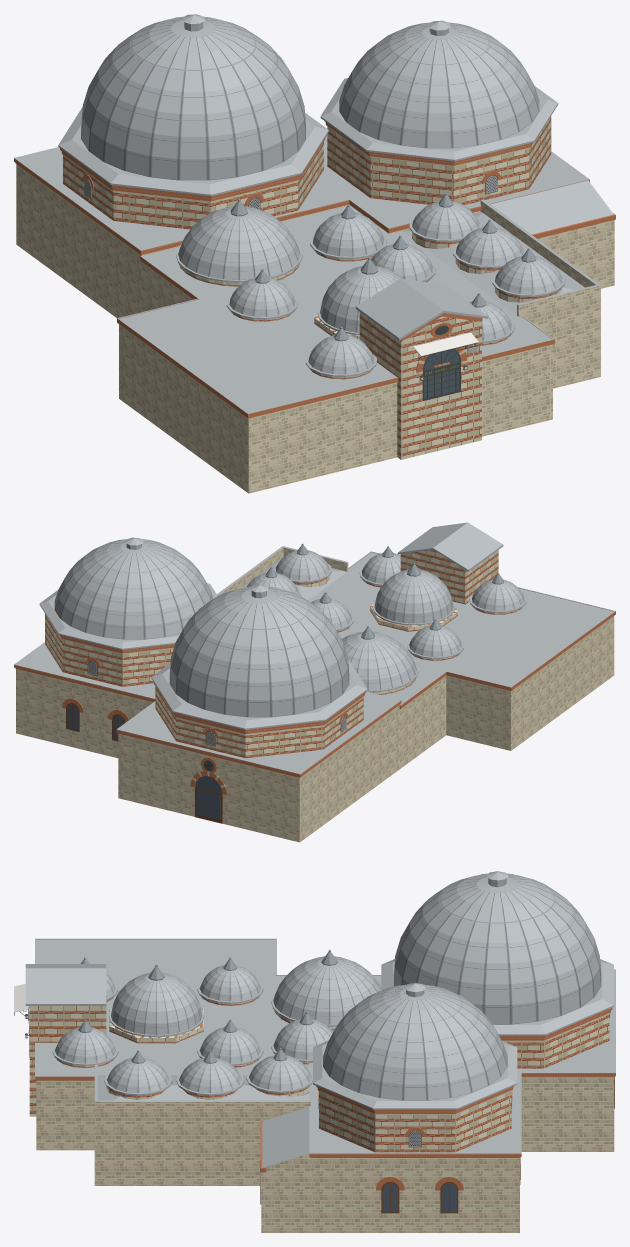
Rendered from orhan-bey-hamami_v08.glb.
3 renders of one model, top to bottom at view 1: azimuth 30°, elevation 25°; view 2: azimuth 150°, elevation 25°; view 3: azimuth 270°, elevation 25°, orthographic. The views are drawn at different scales.
Visible parts, largest first — view 1: Hamam_Sicaklik, Hamam_Sogukluk_Erkek, Hamam_Sogukluk_Kadin, Hamam_Giris, Hamam_Giris_Kadin; view 2: Hamam_Sogukluk_Erkek, Hamam_Sicaklik, Hamam_Sogukluk_Kadin, Hamam_Giris; view 3: Hamam_Sicaklik, Hamam_Sogukluk_Kadin, Hamam_Sogukluk_Erkek, Hamam_Giris, Hamam_Giris_Kadin.
Part boxes in pixels (<box>): Hamam_Sicaklik: <box>117,193,600,493</box>; Hamam_Sogukluk_Erkek: <box>14,14,366,318</box>; Hamam_Sogukluk_Kadin: <box>320,20,589,233</box>; Hamam_Giris: <box>355,278,488,459</box>; Hamam_Giris_Kadin: <box>490,180,615,288</box>; Hamam_Sogukluk_Erkek: <box>116,584,401,842</box>; Hamam_Sicaklik: <box>217,543,615,768</box>; Hamam_Sogukluk_Kadin: <box>14,537,217,758</box>; Hamam_Giris: <box>397,522,503,604</box>; Hamam_Sicaklik: <box>35,938,381,1185</box>; Hamam_Sogukluk_Kadin: <box>309,983,521,1232</box>; Hamam_Sogukluk_Erkek: <box>381,871,615,1151</box>; Hamam_Giris: <box>14,964,106,1116</box>; Hamam_Giris_Kadin: <box>260,1107,310,1232</box>.
Bounding box in the file's own units: 31.62 × 15.2 × 36.23.
15 materials, 5 textured.
